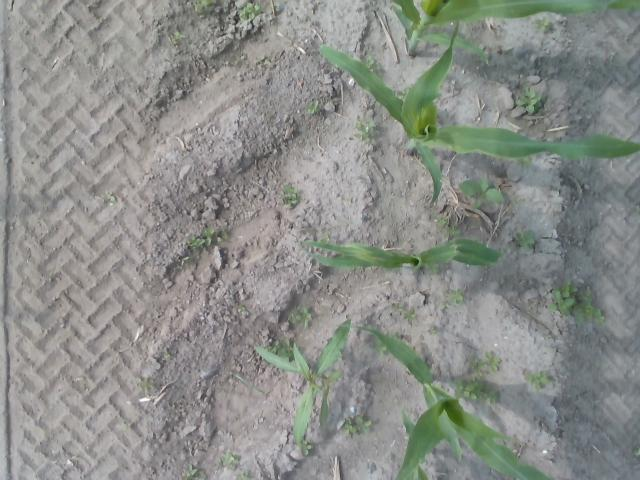Maize: (317, 22, 640, 204), (354, 326, 562, 480), (379, 0, 640, 63), (301, 238, 506, 272)
Weeds: (254, 318, 353, 450), (550, 282, 608, 326), (262, 334, 299, 367), (455, 378, 501, 404), (469, 350, 505, 376), (356, 116, 378, 152), (190, 230, 227, 250), (518, 90, 544, 118), (514, 228, 540, 253), (278, 184, 304, 208), (346, 412, 370, 436), (526, 372, 558, 389), (132, 373, 157, 393), (184, 463, 212, 480), (240, 3, 262, 24), (444, 288, 466, 308), (294, 308, 314, 328), (219, 450, 242, 466), (195, 2, 217, 14), (169, 30, 189, 42), (300, 442, 313, 458), (537, 18, 550, 32), (307, 103, 321, 116)
